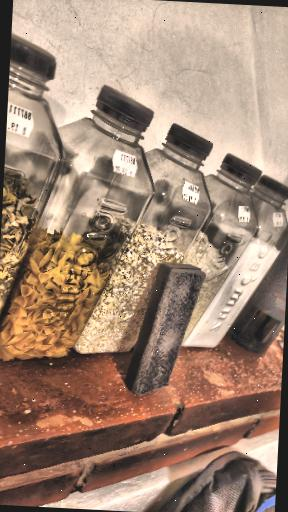borrador: (125, 263, 205, 395)
